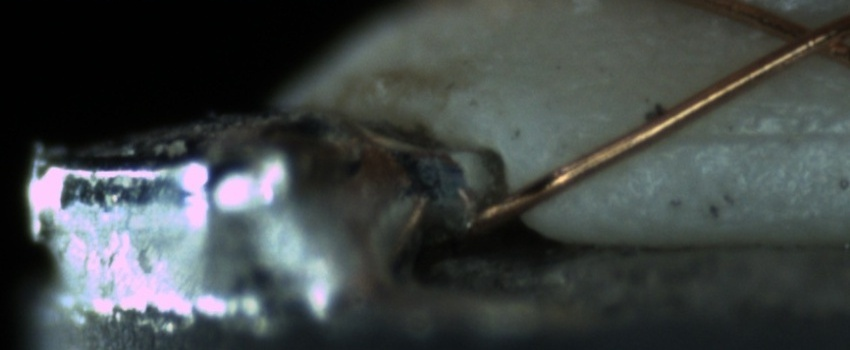CL: (760, 5, 846, 68)
DL: (672, 99, 848, 165)
